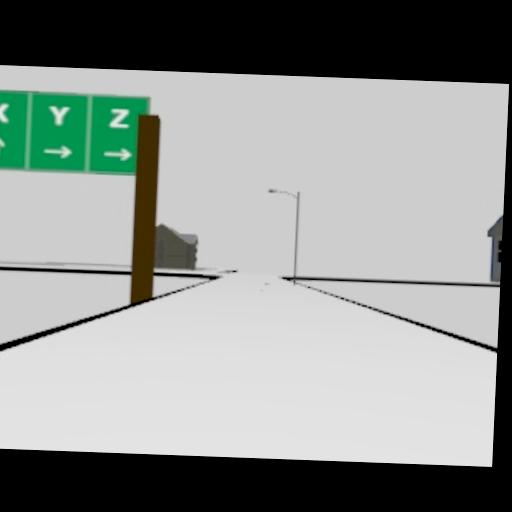Right: (102, 146, 133, 160), (42, 143, 73, 157)
Straight: (0, 136, 4, 159)
X: (0, 100, 9, 120)
Y: (48, 104, 70, 125)
Z: (109, 106, 129, 127)
